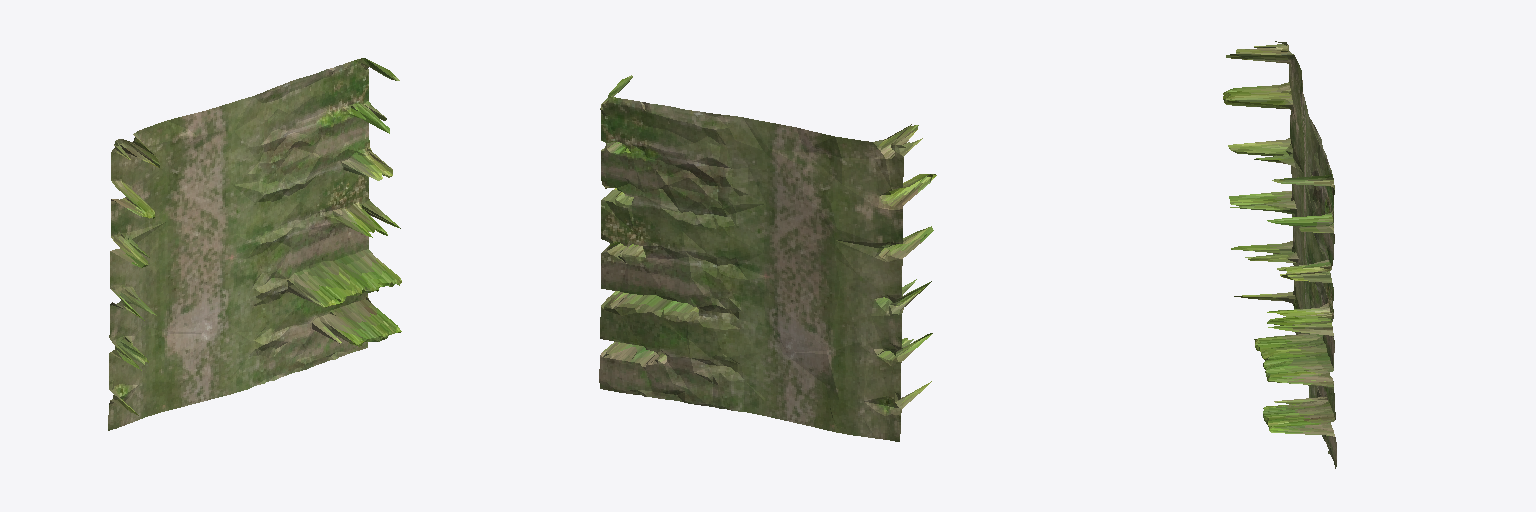
The picture shows the model from 3 angles: view 1: azimuth 30°, elevation 25°; view 2: azimuth 150°, elevation 25°; view 3: azimuth 270°, elevation 25°; orthographic projection.
Parts seen in each view (by area): view 1: grp1; view 2: grp1; view 3: grp1.
Part boxes in pixels (x1,y1,x2,y2): grp1: (108, 58, 401, 430); grp1: (599, 75, 936, 441); grp1: (1223, 41, 1336, 468).
Bounding box in the file's own units: 10 × 10 × 3.53.
Materials: 1 (1 with a texture image).